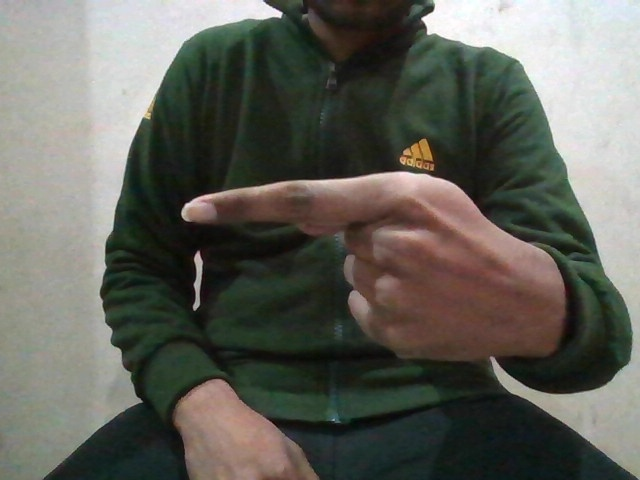G: (174, 174, 559, 356)
